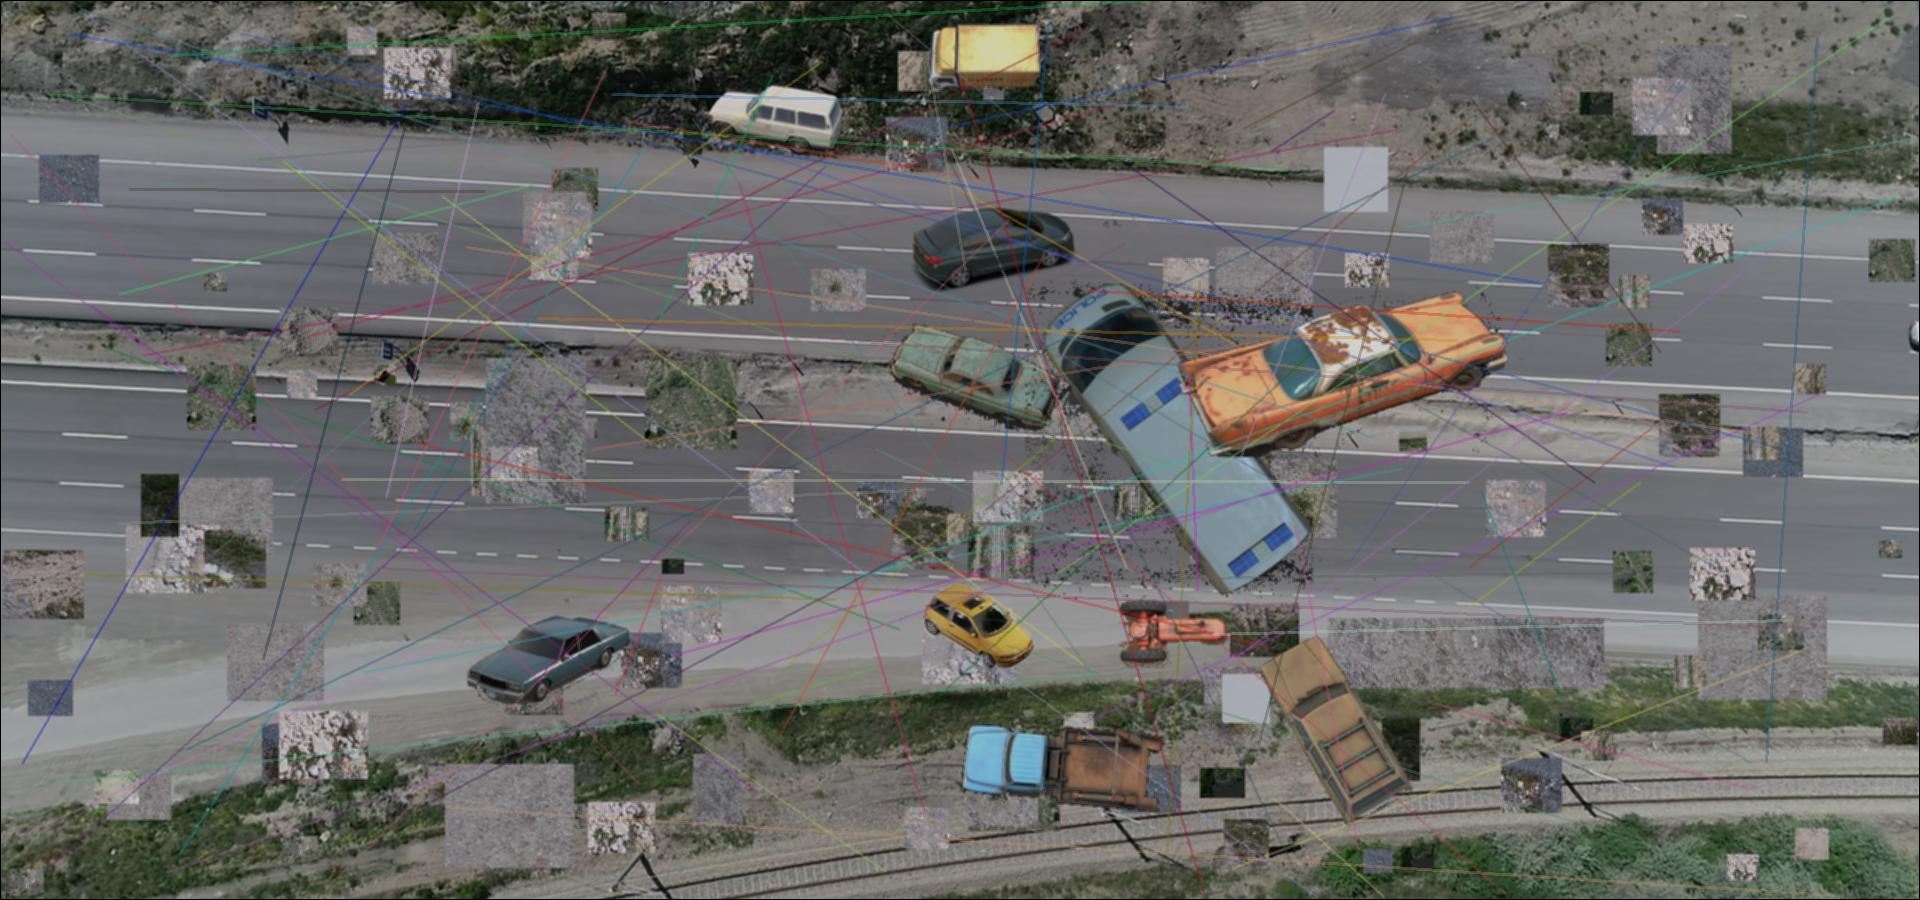arac: (1025, 280, 1313, 599), (1160, 287, 1527, 457), (1251, 632, 1414, 830), (882, 318, 1063, 432), (955, 719, 1164, 814), (467, 615, 632, 705), (906, 207, 1078, 294), (708, 81, 844, 158), (924, 580, 1033, 671), (928, 23, 1041, 96), (1118, 598, 1229, 669)
